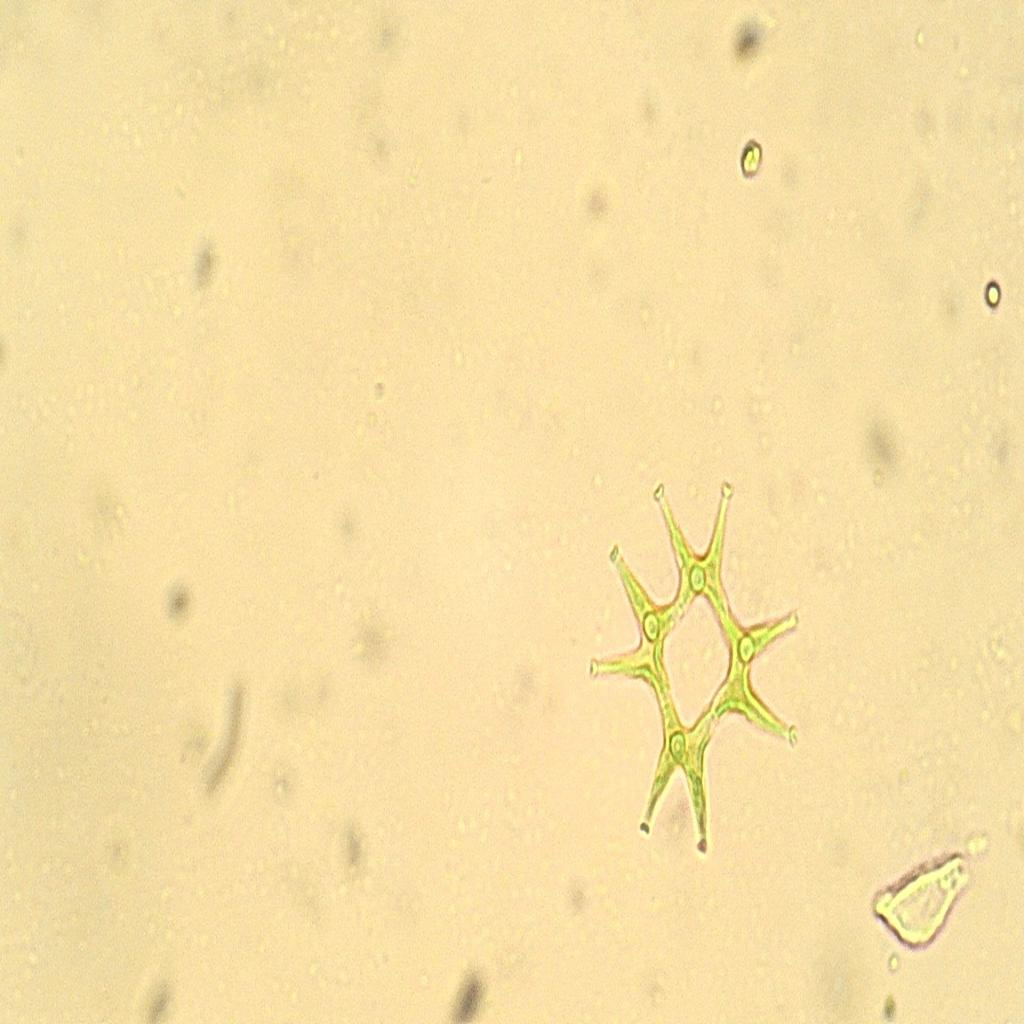Pediastrum_CO: (571, 455, 816, 872)
